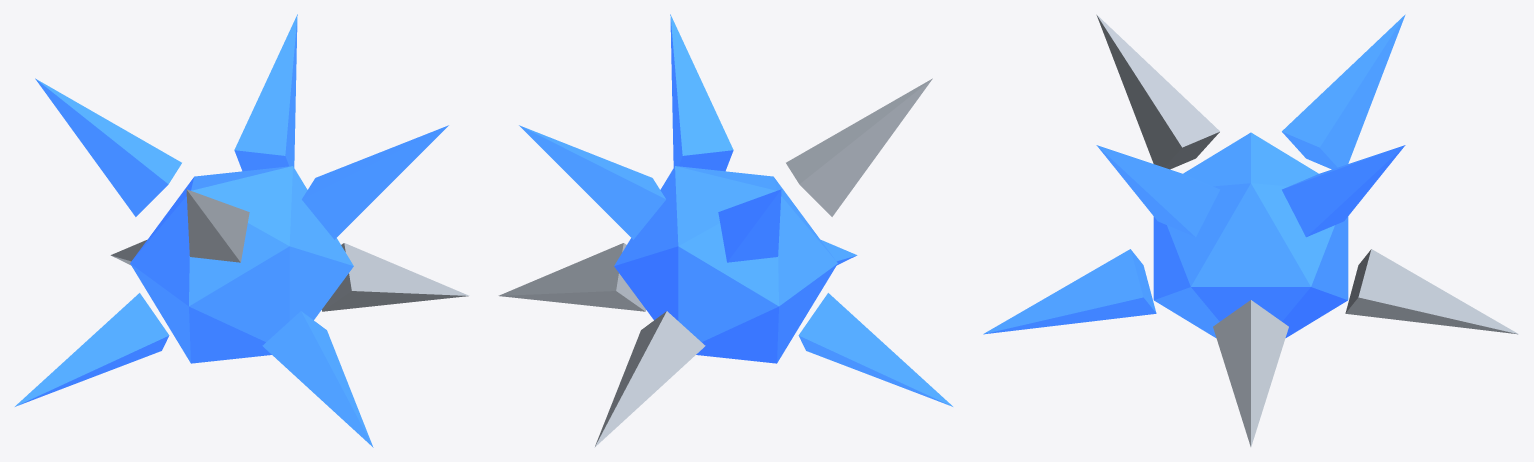
Rendered from vfx_impact_lance.glb.
The picture shows the model from 3 angles, left to right: view 1: azimuth 30°, elevation 25°; view 2: azimuth 150°, elevation 25°; view 3: azimuth 270°, elevation 25°; orthographic projection. The views are drawn at different scales.
Visible parts, largest first — view 1: vfx_impact_lance_core, vfx_impact_lance_shard5, vfx_impact_lance_shard4, vfx_impact_lance_shard1, vfx_impact_lance_shard7, vfx_impact_lance_shard2, vfx_impact_lance_shard0, vfx_impact_lance_shard3; view 2: vfx_impact_lance_core, vfx_impact_lance_shard3, vfx_impact_lance_shard4, vfx_impact_lance_shard7, vfx_impact_lance_shard1, vfx_impact_lance_shard6, vfx_impact_lance_shard0, vfx_impact_lance_shard5; view 3: vfx_impact_lance_core, vfx_impact_lance_shard3, vfx_impact_lance_shard5, vfx_impact_lance_shard2, vfx_impact_lance_shard6, vfx_impact_lance_shard0, vfx_impact_lance_shard1, vfx_impact_lance_shard7.
Part boxes in pixels (x1,y1,x2,y2): vfx_impact_lance_core: (130,166,353,363); vfx_impact_lance_shard5: (35,78,181,216); vfx_impact_lance_shard4: (15,293,169,406); vfx_impact_lance_shard1: (302,125,448,239); vfx_impact_lance_shard7: (234,14,297,171); vfx_impact_lance_shard2: (262,311,373,447); vfx_impact_lance_shard0: (322,243,469,311); vfx_impact_lance_shard3: (186,189,249,262); vfx_impact_lance_core: (614,166,837,363); vfx_impact_lance_shard3: (786,78,932,216); vfx_impact_lance_shard4: (798,293,952,406); vfx_impact_lance_shard7: (519,125,665,239); vfx_impact_lance_shard1: (670,14,733,171); vfx_impact_lance_shard6: (594,311,705,447); vfx_impact_lance_shard0: (498,243,645,311); vfx_impact_lance_shard5: (718,189,781,262); vfx_impact_lance_core: (1153,132,1348,337); vfx_impact_lance_shard3: (1096,14,1219,169); vfx_impact_lance_shard5: (1282,14,1405,169); vfx_impact_lance_shard2: (983,249,1156,334); vfx_impact_lance_shard6: (1345,249,1518,334); vfx_impact_lance_shard0: (1213,300,1288,446); vfx_impact_lance_shard1: (1096,145,1219,237); vfx_impact_lance_shard7: (1282,145,1405,237).
Size of the model in its own units: 0.5638 by 0.2954 by 0.5638.
